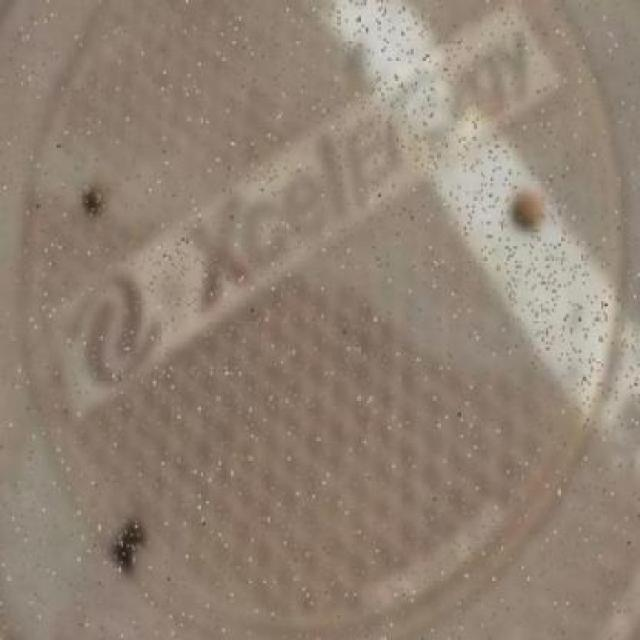Manhole: (20, 3, 626, 640)
